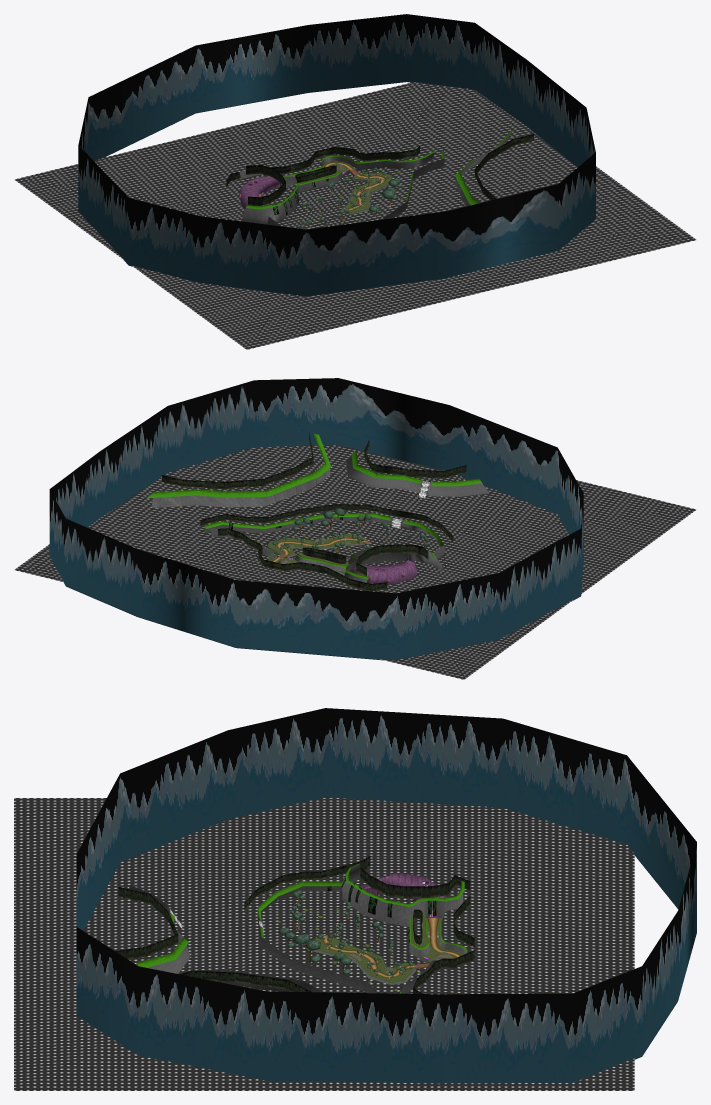
The picture shows the model from 3 angles, top to bottom: view 1: azimuth 30°, elevation 25°; view 2: azimuth 150°, elevation 25°; view 3: azimuth 270°, elevation 25°; orthographic projection. The views are drawn at different scales.
Parts seen in each view (by area): view 1: Mountain Range, WaterOOB, RockWall.004, BGTree, Grass.010, Leafs, WaterAir, GrassOffRoad, UnderWaterRockWall; view 2: Mountain Range, WaterOOB, BGTree, RockWall.004, Grass.010, UnderWaterRockWall, Leafs, GrassOffRoad, WaterAir; view 3: Mountain Range, WaterOOB, BGTree, RockWall.004, Grass.010, WaterAir, Leafs, GrassOffRoad, DirtRoad, UnderWaterRockWall.
Boxes of the visible parts, x1,y1,x2,y2 form: Mountain Range: [78, 14, 595, 296]; WaterOOB: [14, 82, 696, 349]; RockWall.004: [239, 130, 512, 226]; BGTree: [226, 134, 533, 205]; Grass.010: [239, 130, 512, 212]; Leafs: [299, 167, 402, 227]; WaterAir: [277, 209, 349, 227]; GrassOffRoad: [297, 161, 391, 212]; UnderWaterRockWall: [239, 176, 280, 209]; Mountain Range: [49, 378, 583, 660]; WaterOOB: [14, 445, 696, 679]; BGTree: [162, 432, 466, 591]; RockWall.004: [151, 456, 489, 582]; Grass.010: [147, 433, 482, 579]; UnderWaterRockWall: [347, 545, 417, 583]; Leafs: [272, 508, 427, 550]; GrassOffRoad: [267, 533, 367, 572]; WaterAir: [363, 538, 435, 573]; Mountain Range: [76, 708, 696, 1083]; WaterOOB: [14, 798, 634, 1090]; BGTree: [115, 856, 474, 993]; RockWall.004: [129, 864, 466, 993]; Grass.010: [136, 863, 467, 993]; WaterAir: [289, 891, 381, 938]; Leafs: [278, 890, 412, 977]; GrassOffRoad: [314, 915, 462, 982]; DirtRoad: [322, 918, 460, 977]; UnderWaterRockWall: [360, 873, 444, 901].
Bounding box in the file's own units: 309919 × 51303 × 304648.
Materials: 25 (25 with a texture image).
